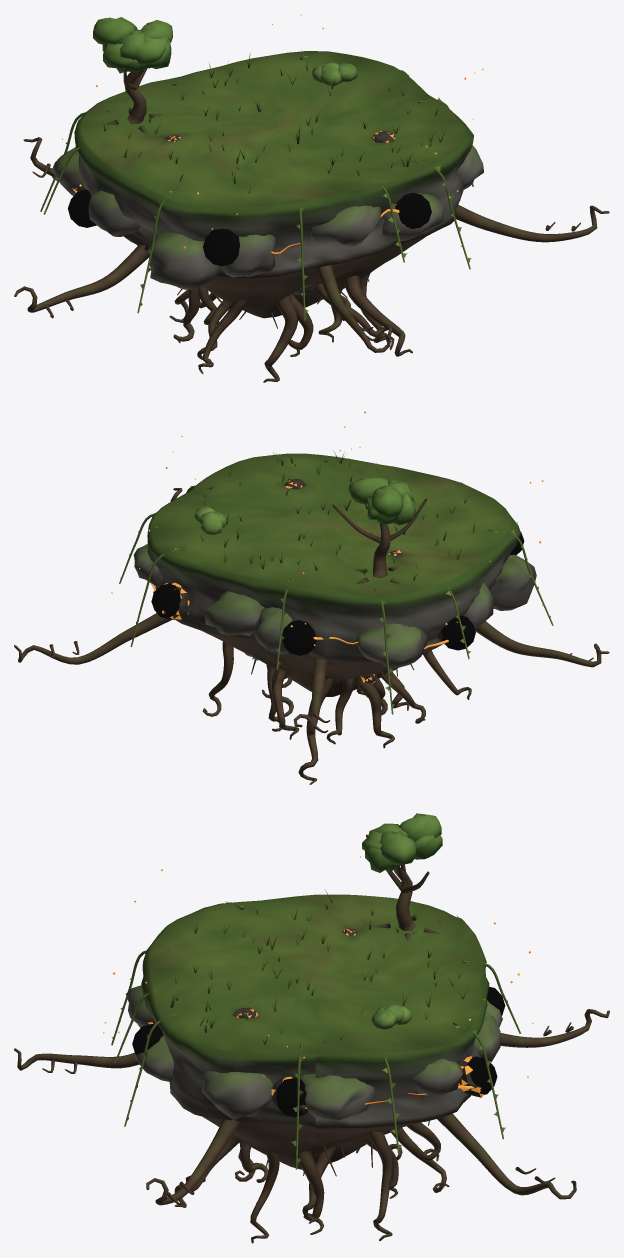
File: driftstone.glb
The picture shows the model from 3 angles, top to bottom: view 1: azimuth 30°, elevation 25°; view 2: azimuth 150°, elevation 25°; view 3: azimuth 270°, elevation 25°; orthographic projection. The views are drawn at different scales.
Parts seen in each view (by area): view 1: driftstone-body, driftstone-fx; view 2: driftstone-body, driftstone-fx, driftstone-glow; view 3: driftstone-body, driftstone-fx.
Boxes of the visible parts, x1,y1,x2,y2 form: driftstone-body: (14,17,609,382); driftstone-fx: (68,189,431,266); driftstone-body: (14,450,609,784); driftstone-fx: (151,531,524,655); driftstone-glow: (111,411,543,683); driftstone-body: (14,813,609,1243); driftstone-fx: (132,986,505,1117).
Bounding box in the file's own units: 3.44 × 2.01 × 3.23.
